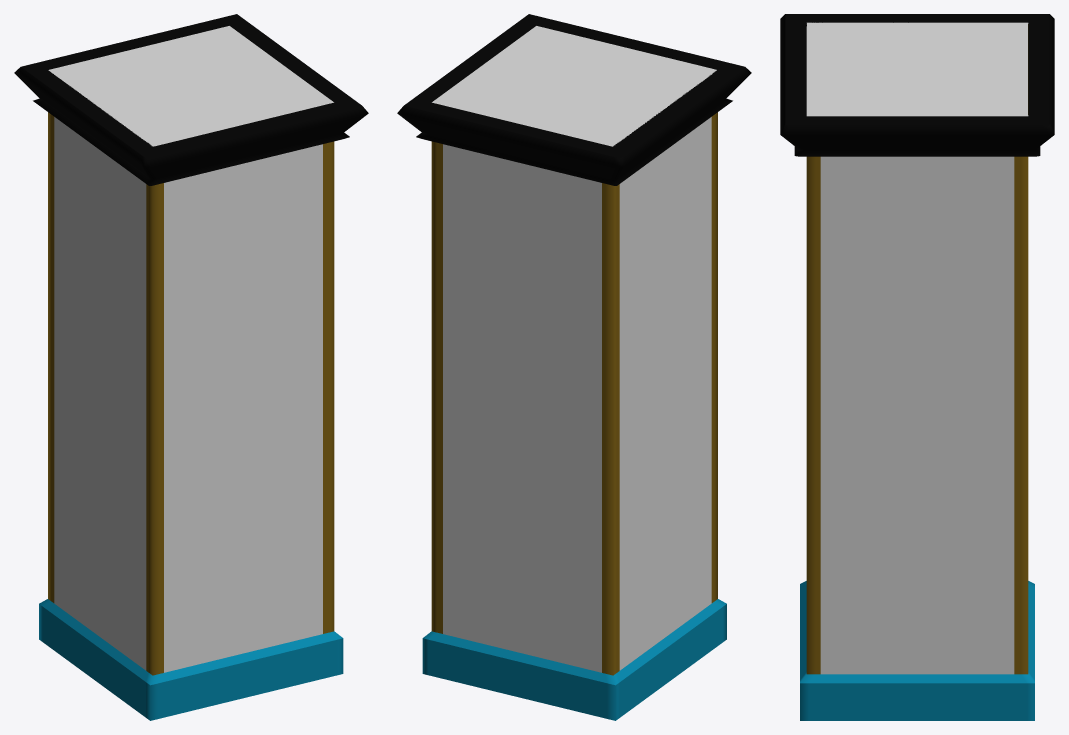
File: Neo_Pillar_02_L.fbx
The picture shows the model from 3 angles, left to right: view 1: azimuth 30°, elevation 25°; view 2: azimuth 150°, elevation 25°; view 3: azimuth 270°, elevation 25°; orthographic projection. The views are drawn at different scales.
Visible parts, largest first — view 1: Neo_Pillar_02_L_LOD00; view 2: Neo_Pillar_02_L_LOD00; view 3: Neo_Pillar_02_L_LOD00.
Boxes of the visible parts, x1=… form: Neo_Pillar_02_L_LOD00: x1=14, y1=14, x2=368, y2=720; Neo_Pillar_02_L_LOD00: x1=397, y1=14, x2=751, y2=720; Neo_Pillar_02_L_LOD00: x1=780, y1=14, x2=1054, y2=720.
Size of what is drawn, in the model's own units: 124 by 300 by 124.
